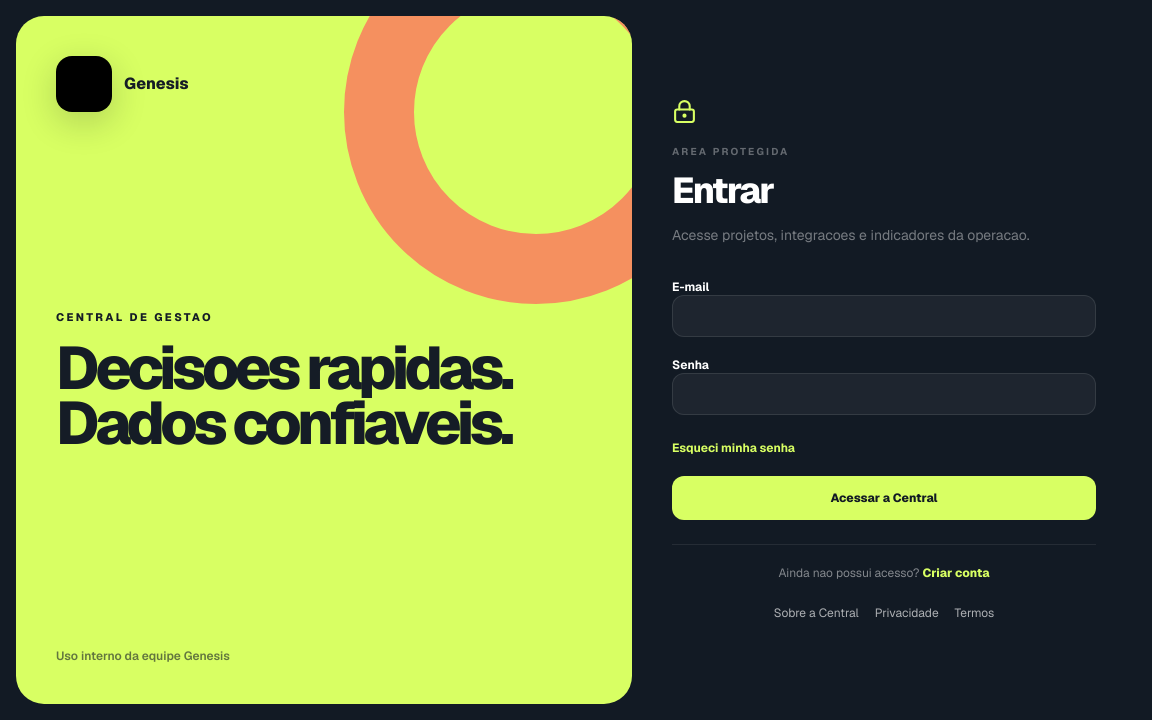
Test case: password recovery request › preserves the email, hides password fields and requests a PKCE link with a neutral response
This screenshot has width=1152, height=720.
Step 1. Type "internal@example.com" into the field labelled "E-mail" → (884, 316), box [672,295,1096,337]
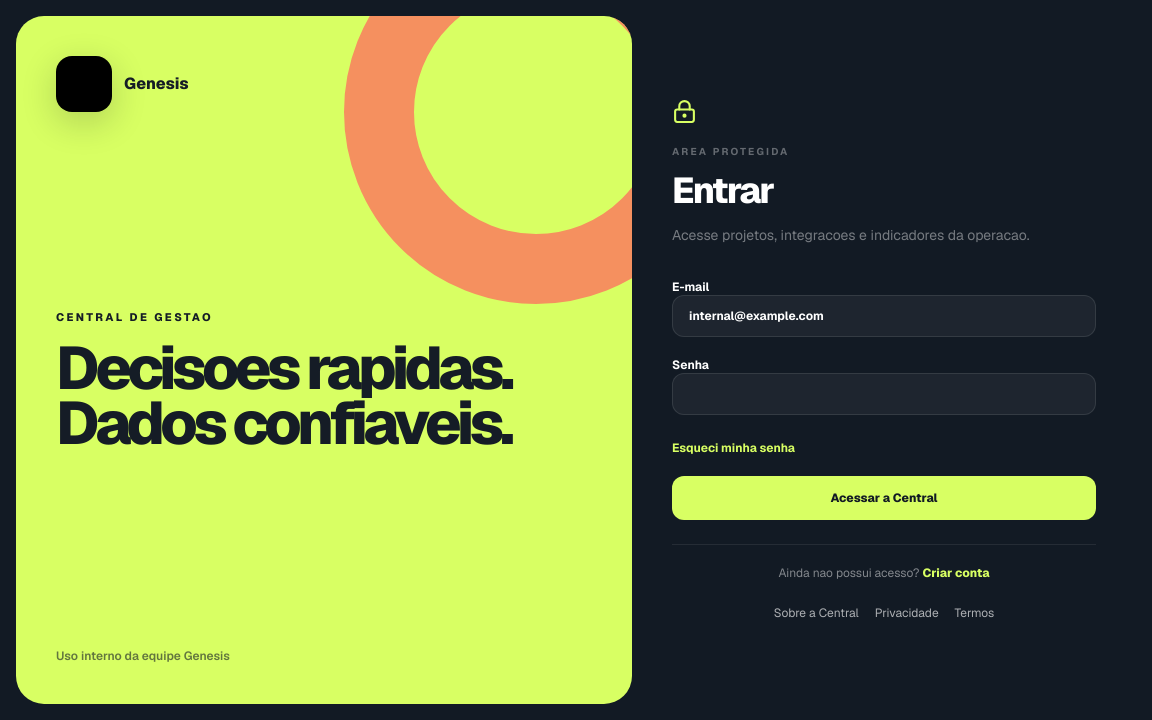
Step 2. Click the button "Esqueci minha senha" → (734, 448), box [672,440,795,456]
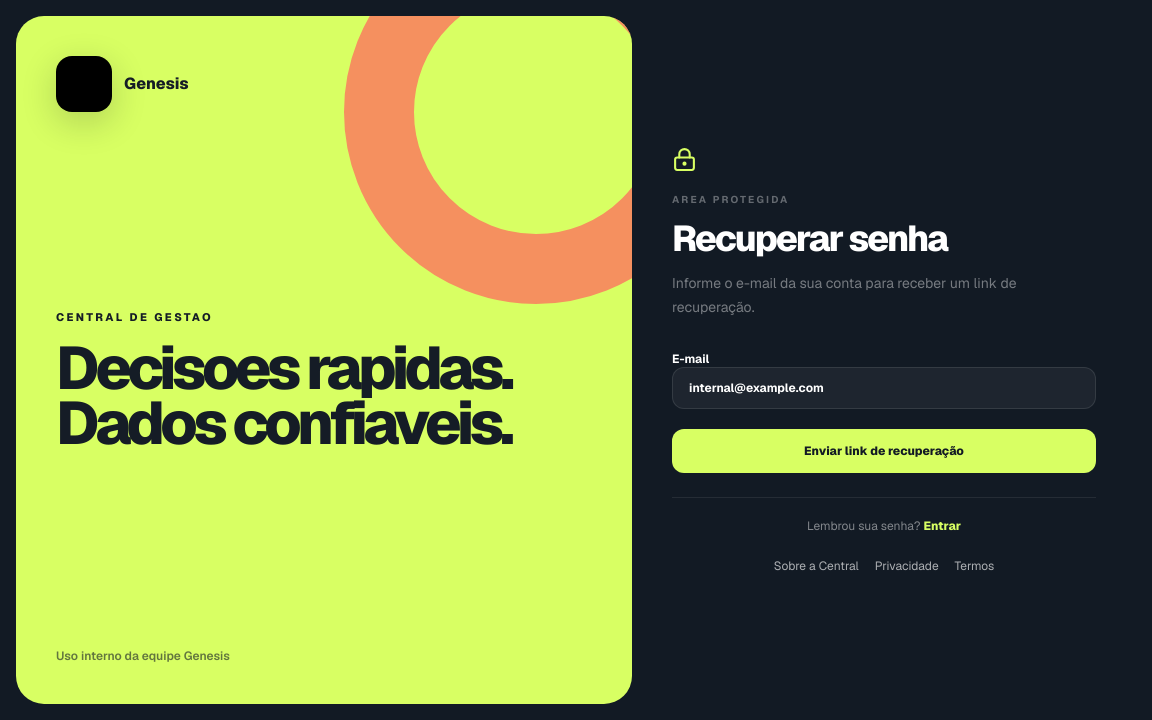
Step 3. Click the button "Enviar link de recuperação" → (884, 450), box [672,428,1096,472]
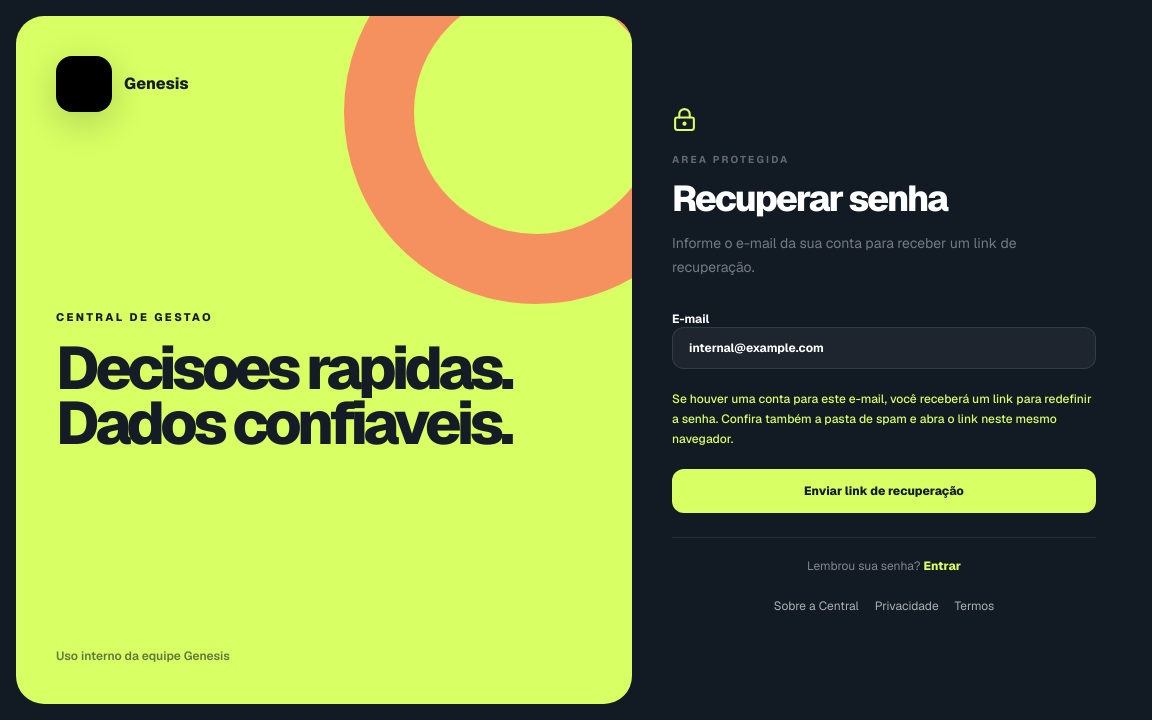
expect the message is shown: met, box [672,388,1096,448]
expect the message shows "Se houver uma conta": met, box [672,390,1092,446]
Step 4. Click the button "Entrar" → (942, 566), box [923,558,961,574]
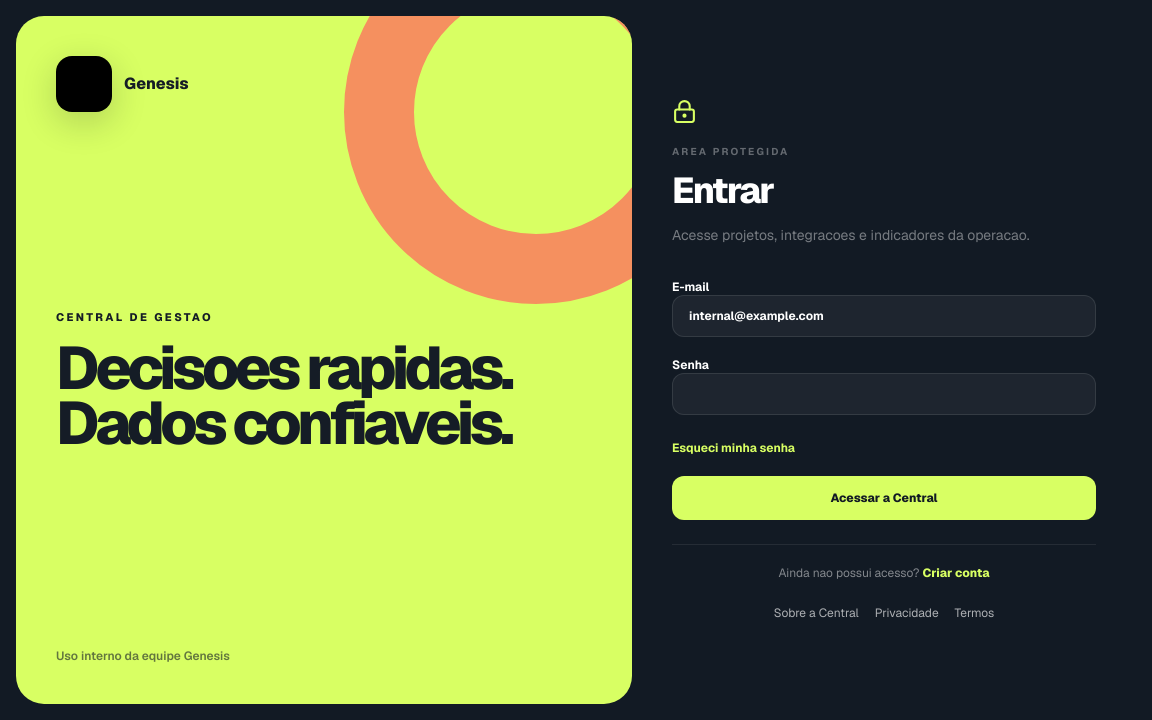
expect the password field labelled "Senha" is shown: met, box [672,373,1096,415]
expect the message is gone: met
